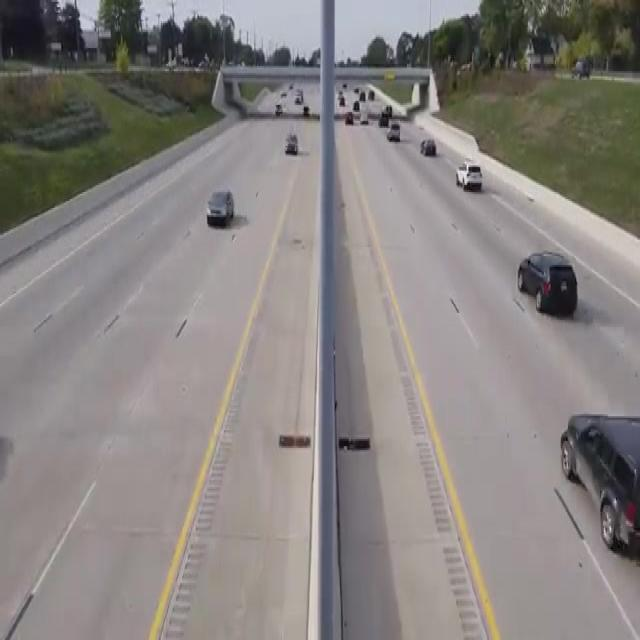car: (562, 404, 640, 574), (521, 240, 579, 322), (457, 160, 502, 228), (205, 177, 250, 245), (284, 130, 317, 192), (420, 125, 445, 171), (377, 113, 397, 134), (273, 99, 288, 127), (389, 119, 404, 146), (359, 110, 376, 132), (344, 107, 356, 132), (384, 100, 396, 120), (354, 100, 364, 118), (302, 106, 312, 120)
